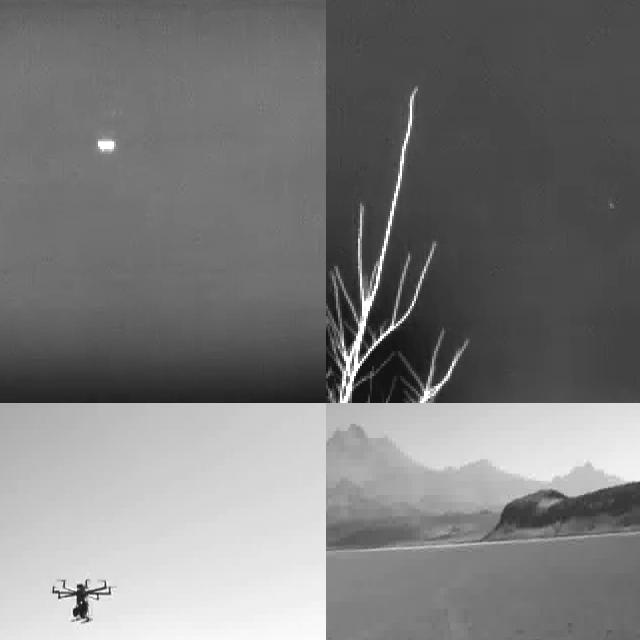0: (603, 192, 625, 228)
1: (90, 134, 126, 164)
drone: (53, 572, 114, 622)
